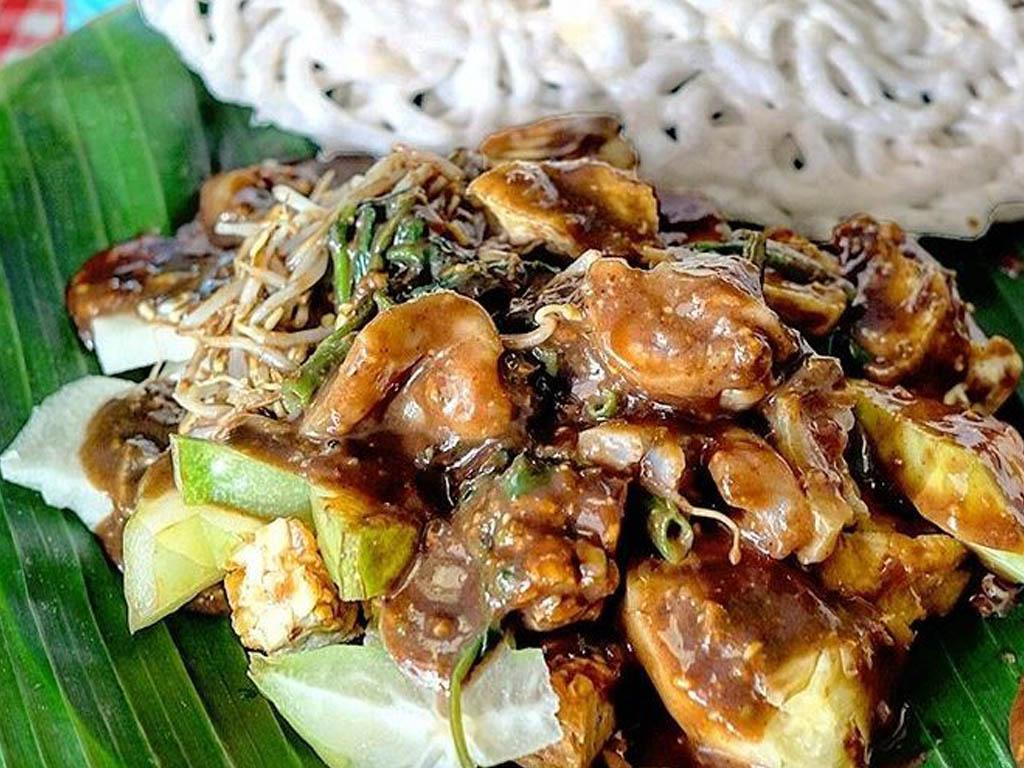rujak_cingur: (66, 119, 1024, 768)
